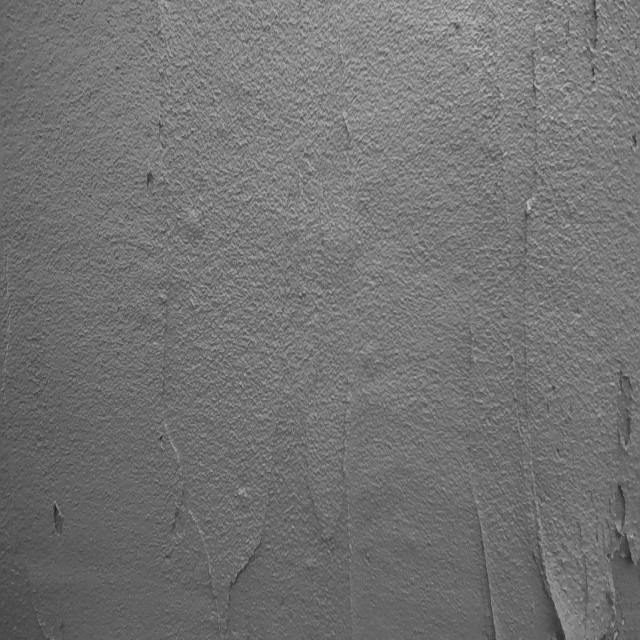trowels marks: (518, 49, 570, 638), (469, 485, 506, 640), (340, 389, 360, 634)
